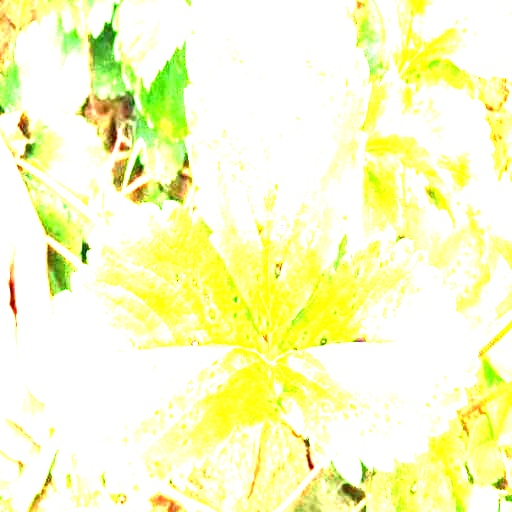Leaf Spot: (32, 199, 282, 501), (184, 0, 371, 348), (270, 228, 482, 489), (402, 204, 511, 350), (404, 62, 495, 186), (393, 0, 511, 79), (116, 0, 196, 98), (365, 453, 457, 511), (428, 417, 473, 511), (354, 0, 404, 82)
